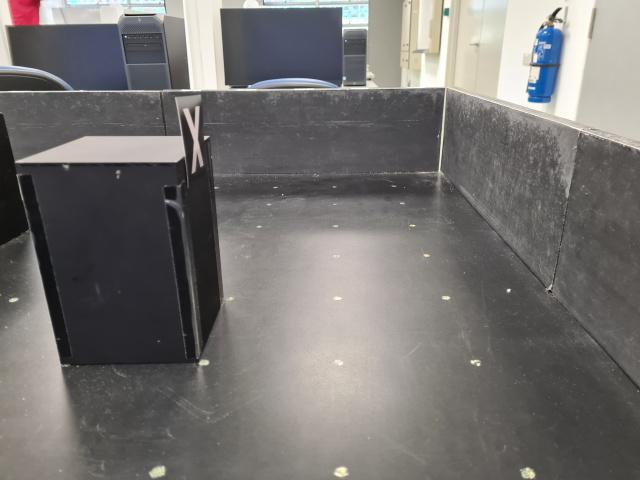x: (174, 94, 210, 188)
